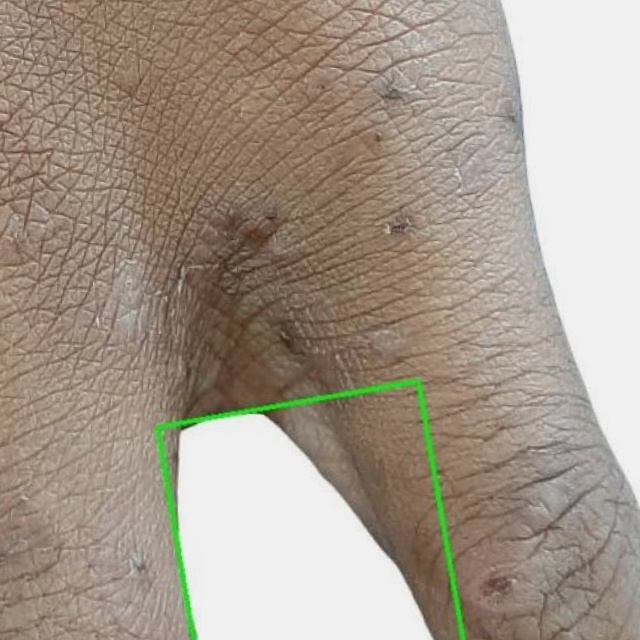Scabies: (157, 382, 463, 639)
